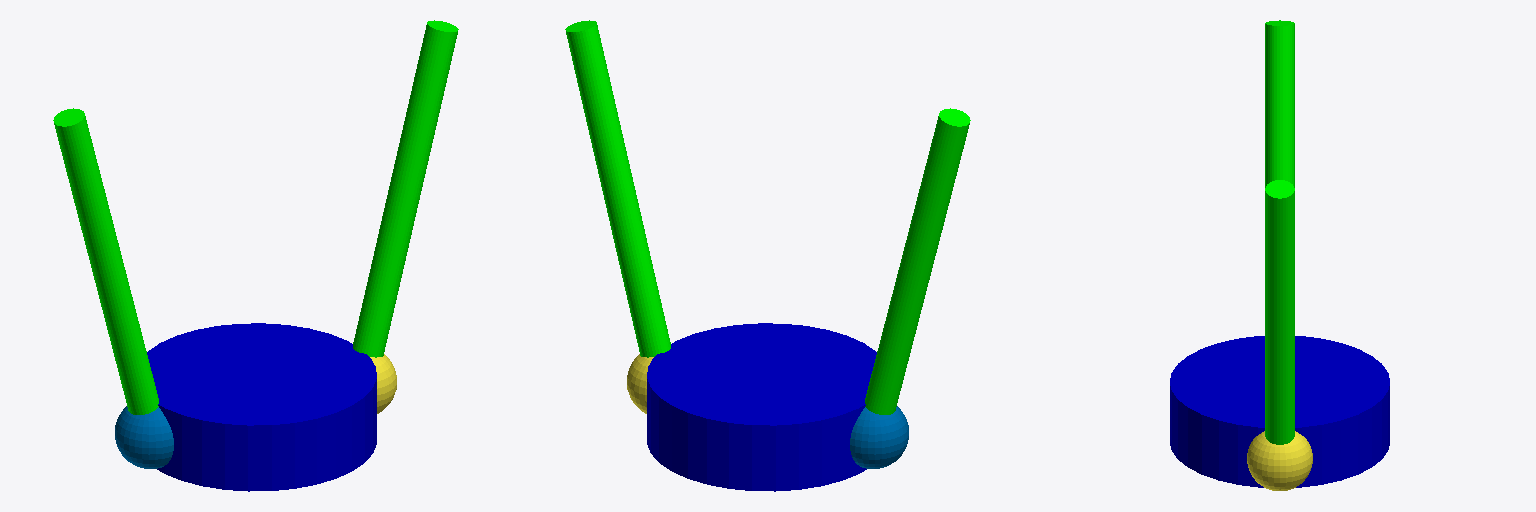
The robot description file, URDF, robot "gripper_2f_1j":
<?xml version='1.0' encoding='UTF-8'?>
<robot name="gripper_2f_1j">
  <link name="palm">
    <inertial>
      <origin xyz="0.0 0.0 0.0" rpy="0.0 -0.0 0.0"/>
      <mass value="1.0"/>
      <inertia ixx="1.0" ixy="0.0" ixz="0.0" iyy="1.0" iyz="0.0" izz="1.0"/>
    </inertial>
    <visual>
      <geometry>
        <cylinder radius="0.05" length="0.03"/>
      </geometry>
      <material name="blue"/>
      <origin xyz="0.0 0.0 0.0" rpy="0.0 -0.0 0.0"/>
    </visual>
    <collision>
      <geometry>
        <cylinder radius="0.05" length="0.03"/>
      </geometry>
      <origin xyz="0.0 0.0 0.0" rpy="0.0 0.0 0.0"/>
    </collision>
  </link>
  <link name="f11">
    <inertial>
      <origin xyz="0.0 0.0 0.0" rpy="0.0 -0.0 0.0"/>
      <mass value="1.0"/>
      <inertia ixx="1.0" ixy="0.0" ixz="0.0" iyy="1.0" iyz="0.0" izz="1.0"/>
    </inertial>
    <visual>
      <geometry>
        <cylinder radius="0.006663412033852873" length="0.15752453354064447"/>
      </geometry>
      <material name="green"/>
      <origin xyz="0.0 0.0 0.07876226677032223" rpy="0.0 -0.0 0.0"/>
    </visual>
    <collision>
      <geometry>
        <cylinder radius="0.006663412033852873" length="0.15752453354064447"/>
      </geometry>
      <origin xyz="0.0 0.0 0.05" rpy="0.0 0.0 0.0"/>
    </collision>
  </link>
  <link name="f21">
    <inertial>
      <origin xyz="0.0 0.0 0.0" rpy="0.0 -0.0 0.0"/>
      <mass value="1.0"/>
      <inertia ixx="1.0" ixy="0.0" ixz="0.0" iyy="1.0" iyz="0.0" izz="1.0"/>
    </inertial>
    <visual>
      <geometry>
        <cylinder radius="0.006663412033852873" length="0.15752453354064447"/>
      </geometry>
      <material name="green"/>
      <origin xyz="0.0 0.0 0.07876226677032223" rpy="0.0 -0.0 0.0"/>
    </visual>
    <collision>
      <geometry>
        <cylinder radius="0.006663412033852873" length="0.15752453354064447"/>
      </geometry>
      <origin xyz="0.0 0.0 0.05" rpy="0.0 0.0 0.0"/>
    </collision>
  </link>
  <link name="f11_base">
    <inertial>
      <origin xyz="0.0 0.0 0.0" rpy="0.0 -0.0 0.0"/>
      <mass value="1.0"/>
      <inertia ixx="1.0" ixy="0.0" ixz="0.0" iyy="1.0" iyz="0.0" izz="1.0"/>
    </inertial>
    <visual>
      <geometry>
        <sphere radius="0.015"/>
      </geometry>
      <origin xyz="0.0 0.0 0.0" rpy="0.0 -0.0 0.0"/>
    </visual>
  </link>
  <link name="f21_base">
    <inertial>
      <origin xyz="0.0 0.0 0.0" rpy="0.0 -0.0 0.0"/>
      <mass value="1.0"/>
      <inertia ixx="1.0" ixy="0.0" ixz="0.0" iyy="1.0" iyz="0.0" izz="1.0"/>
    </inertial>
    <visual>
      <geometry>
        <sphere radius="0.015"/>
      </geometry>
      <origin xyz="0.0 0.0 0.0" rpy="0.0 -0.0 0.0"/>
    </visual>
  </link>
  <joint name="f11_joint" type="revolute">
    <dynamics damping="100.0" friction="1.0"/>
    <limit effort="30.0" velocity="2.0" lower="-0.6" upper="0.25"/>
    <parent link="f11_base"/>
    <child link="f11"/>
    <axis xyz="0. 1. 0."/>
    <origin xyz="0.0 0.0 0.0" rpy="0.0 0.25 0.0"/>
  </joint>
  <joint name="f21_joint" type="revolute">
    <dynamics damping="100.0" friction="1.0"/>
    <limit effort="30.0" velocity="2.0" lower="-0.6" upper="0.25"/>
    <parent link="f21_base"/>
    <child link="f21"/>
    <axis xyz=" 0. -1.  0."/>
    <origin xyz="0.0 0.0 0.0" rpy="0.0 -0.25 0.0"/>
  </joint>
  <joint name="f11_base_joint" type="fixed">
    <parent link="palm"/>
    <child link="f11_base"/>
    <axis xyz="1. 0. 0."/>
    <origin xyz="0.05 0.0 0.0" rpy="0.0 0.0 0.0"/>
  </joint>
  <joint name="f21_base_joint" type="fixed">
    <parent link="palm"/>
    <child link="f21_base"/>
    <axis xyz="1. 0. 0."/>
    <origin xyz="-0.05 -0.0 0.0" rpy="0.0 0.0 0.0"/>
  </joint>
  <material name="blue">
    <color rgba="0.  0.  0.8 1. "/>
  </material>
  <material name="green">
    <color rgba="0. 1. 0. 1."/>
  </material>
</robot>

--- Render facts (derived) ---
Views: 3 orthographic renders of the robot side by side, from view 1: azimuth 30°, elevation 25°; view 2: azimuth 150°, elevation 25°; view 3: azimuth 270°, elevation 25°.
Robot: gripper_2f_1j — 5 links, 4 joints (2 revolute, 2 fixed); root link palm; default pose: all joints at 0.
Links seen in each view (by area): view 1: palm, f11, f21, f21_base, f11_base; view 2: palm, f11, f21, f21_base, f11_base; view 3: palm, f11, f21, f11_base.
Link boxes in pixels (box(x1,y1,x2,y2)): palm: box(147, 323, 376, 491); f11: box(353, 20, 458, 357); f21: box(53, 108, 158, 414); f21_base: box(115, 406, 173, 468); f11_base: box(370, 354, 396, 413); palm: box(647, 323, 876, 491); f11: box(565, 20, 670, 357); f21: box(865, 108, 970, 414); f21_base: box(850, 406, 908, 468); f11_base: box(627, 354, 653, 413); palm: box(1170, 336, 1389, 487); f11: box(1265, 180, 1294, 444); f21: box(1265, 20, 1294, 187); f11_base: box(1247, 431, 1312, 490).
Size in the robot's own frame: 0.1909 by 0.1 by 0.1693 metres.
Geometry: primitives only (box / cylinder / sphere), no mesh files.